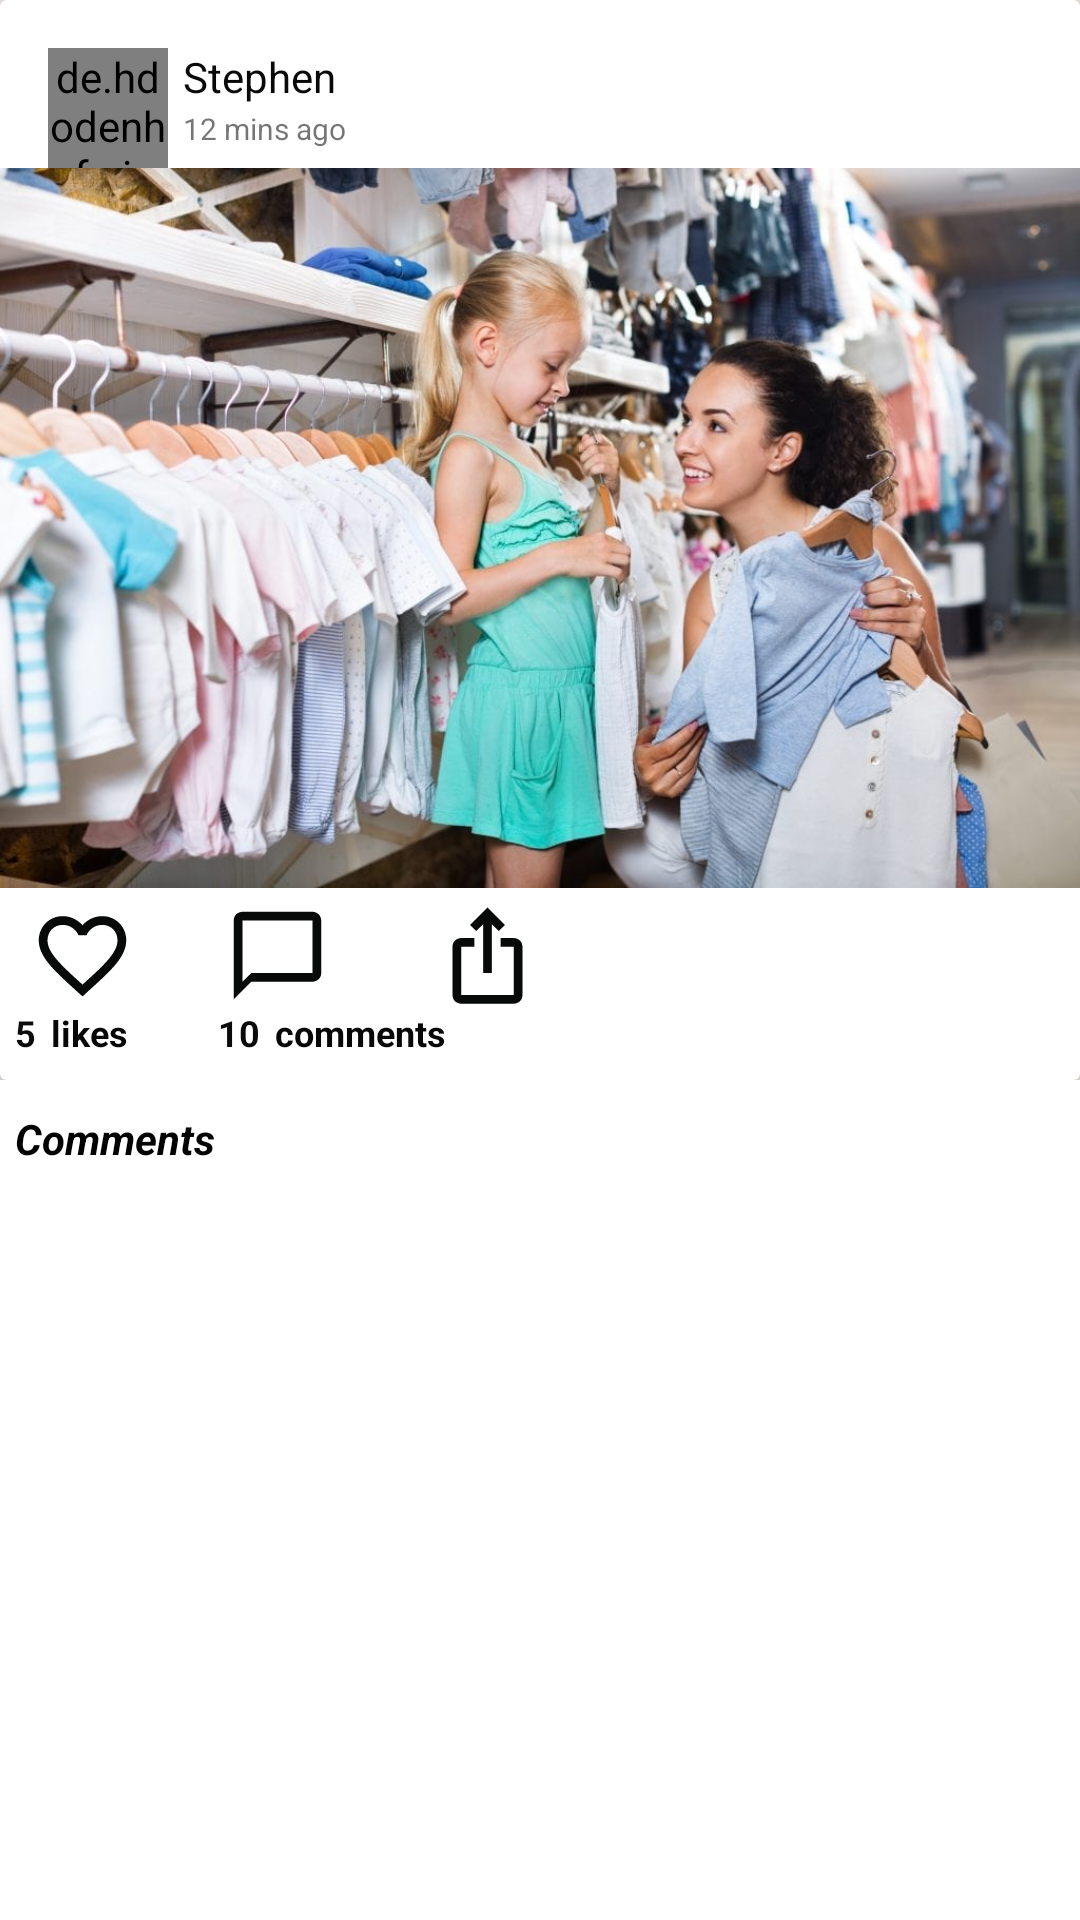

Icons on this 1080x1920 Android screen, each with its box as [x1, y1, x2, y2]:
chat bubble: [233, 911, 322, 999]
favorite border: [38, 916, 127, 997]
share: [452, 907, 523, 1004]
